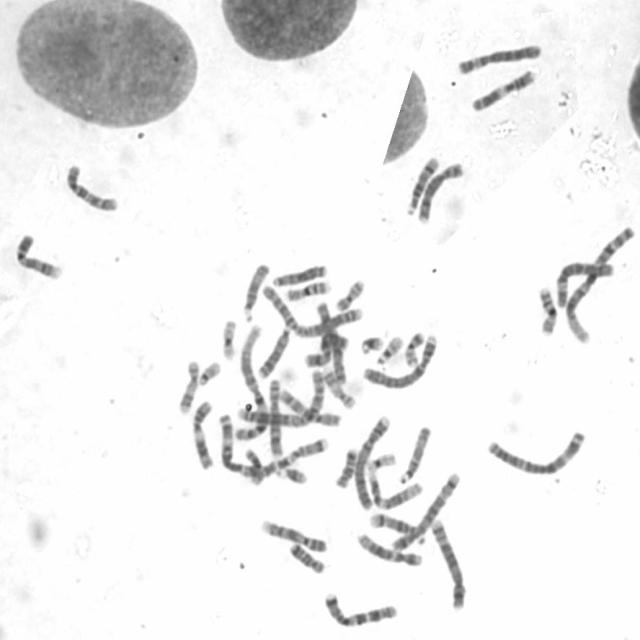A1: (561, 222, 638, 344), (233, 322, 270, 442)
A2: (256, 279, 362, 340), (233, 365, 326, 428)
A3: (484, 427, 588, 477), (214, 410, 280, 484)
B4: (360, 331, 439, 390), (352, 412, 391, 510)
B5: (387, 467, 462, 552), (428, 514, 469, 610)
C10: (63, 159, 121, 213), (276, 385, 342, 428)
C11: (468, 66, 538, 113), (188, 396, 216, 471)
C12: (353, 528, 424, 568), (364, 469, 424, 511)
C6: (454, 40, 544, 76), (552, 258, 616, 308)
C7: (238, 433, 329, 482), (320, 588, 400, 629)
C8: (413, 157, 467, 224), (266, 374, 284, 458)
C9: (258, 515, 329, 554), (12, 229, 64, 280)
D13: (255, 323, 293, 380), (269, 262, 328, 288)
D14: (403, 152, 440, 217), (366, 510, 428, 547)
D15: (395, 422, 432, 485), (239, 258, 270, 323)
E16: (282, 275, 333, 302), (536, 283, 558, 336)
E17: (319, 364, 358, 410), (175, 355, 201, 415)
E18: (285, 538, 327, 576), (332, 443, 361, 489)
F19: (362, 448, 398, 474), (219, 316, 239, 362)
F20: (332, 275, 366, 312), (401, 327, 426, 368)
G21: (272, 462, 310, 486), (358, 330, 386, 355)
G22: (374, 332, 404, 366), (195, 357, 223, 387)
X: (312, 296, 351, 386), (300, 330, 350, 368)
